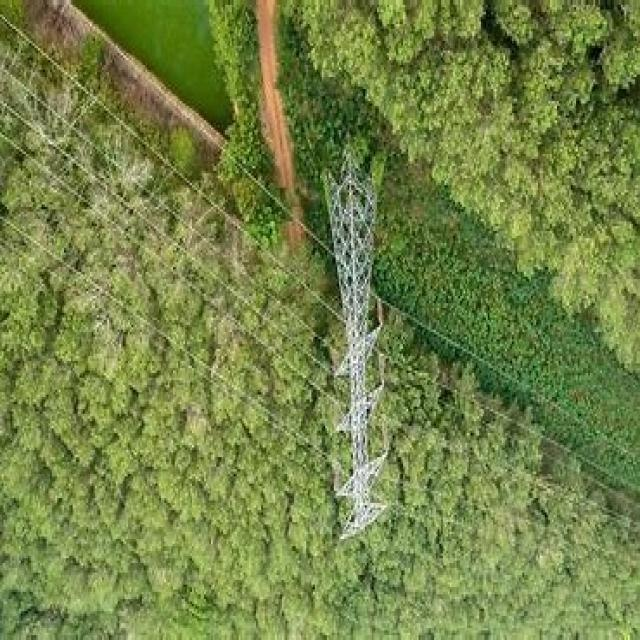utility poles: (318, 123, 408, 547)
